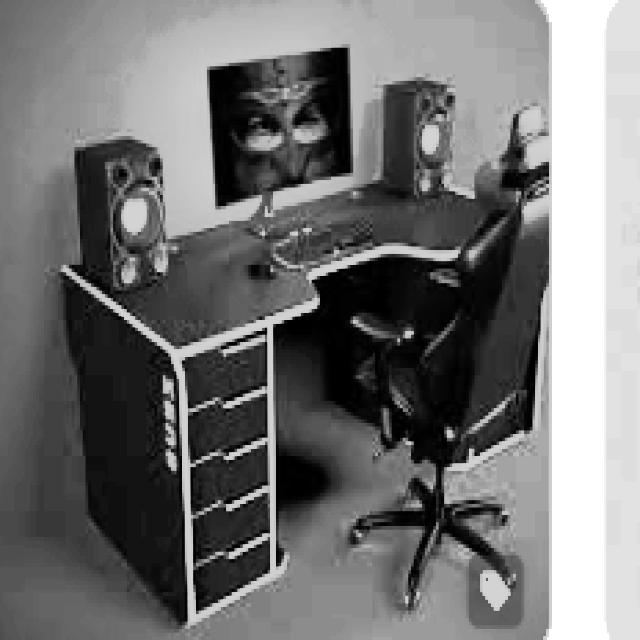table: (58, 173, 499, 625)
